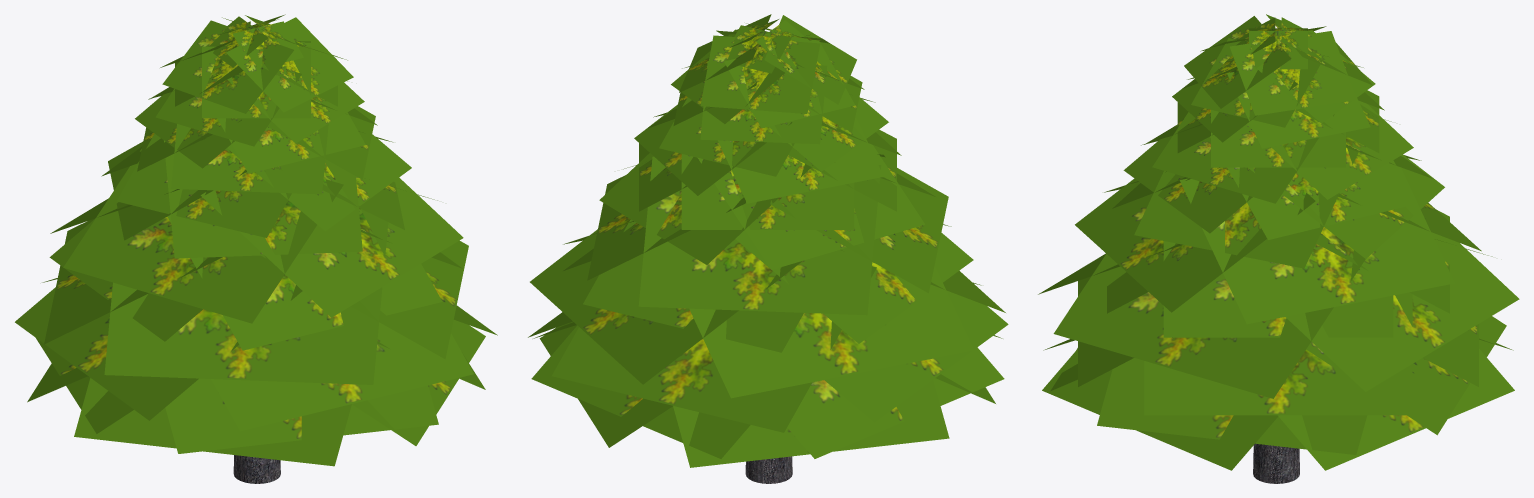
File: Tree01.fbx
3 renders of one model, left to right at view 1: azimuth 30°, elevation 25°; view 2: azimuth 150°, elevation 25°; view 3: azimuth 270°, elevation 25°, orthographic.
Parts seen in each view (by area): view 1: Imported_OBJ_Object; view 2: Imported_OBJ_Object; view 3: Imported_OBJ_Object.
Boxes of the visible parts, x1=… form: Imported_OBJ_Object: x1=15, y1=14, x2=497, y2=483; Imported_OBJ_Object: x1=528, y1=14, x2=1008, y2=483; Imported_OBJ_Object: x1=1038, y1=14, x2=1519, y2=483.
Size of the model in its own units: 2260 by 2297 by 2260.
